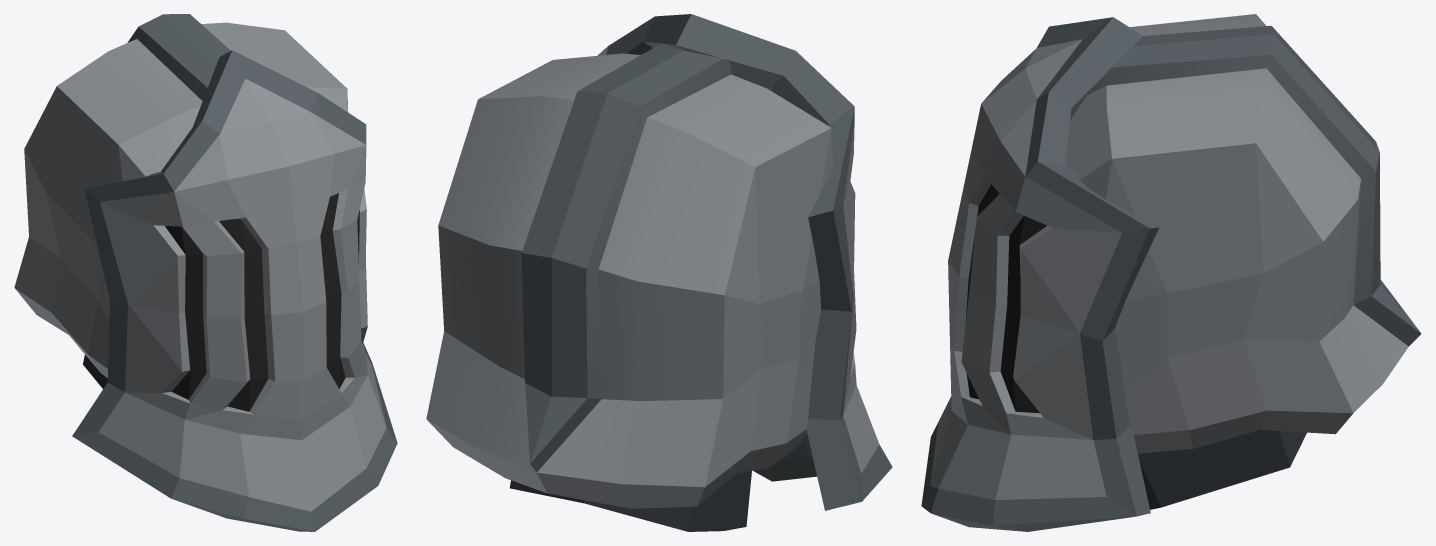
File: Chr_Head_No_Elements_Male_08_Static.fbx
3 renders of one model, left to right at view 1: azimuth 30°, elevation 25°; view 2: azimuth 150°, elevation 25°; view 3: azimuth 270°, elevation 25°, orthographic. The views are drawn at different scales.
Parts seen in each view (by area): view 1: Chr_Head_No_Elements_Male_08_Static; view 2: Chr_Head_No_Elements_Male_08_Static; view 3: Chr_Head_No_Elements_Male_08_Static.
Boxes of the visible parts, box(x1,y1,x2,y2) form: Chr_Head_No_Elements_Male_08_Static: box(14, 14, 397, 531); Chr_Head_No_Elements_Male_08_Static: box(426, 14, 892, 531); Chr_Head_No_Elements_Male_08_Static: box(921, 14, 1421, 531).
Bounding box in the file's own units: 0.2843 × 0.3914 × 0.3531.
